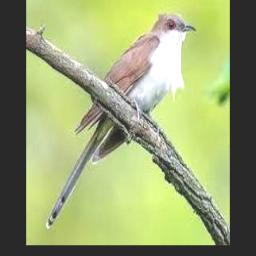Cuckoo: (46, 13, 196, 228)
